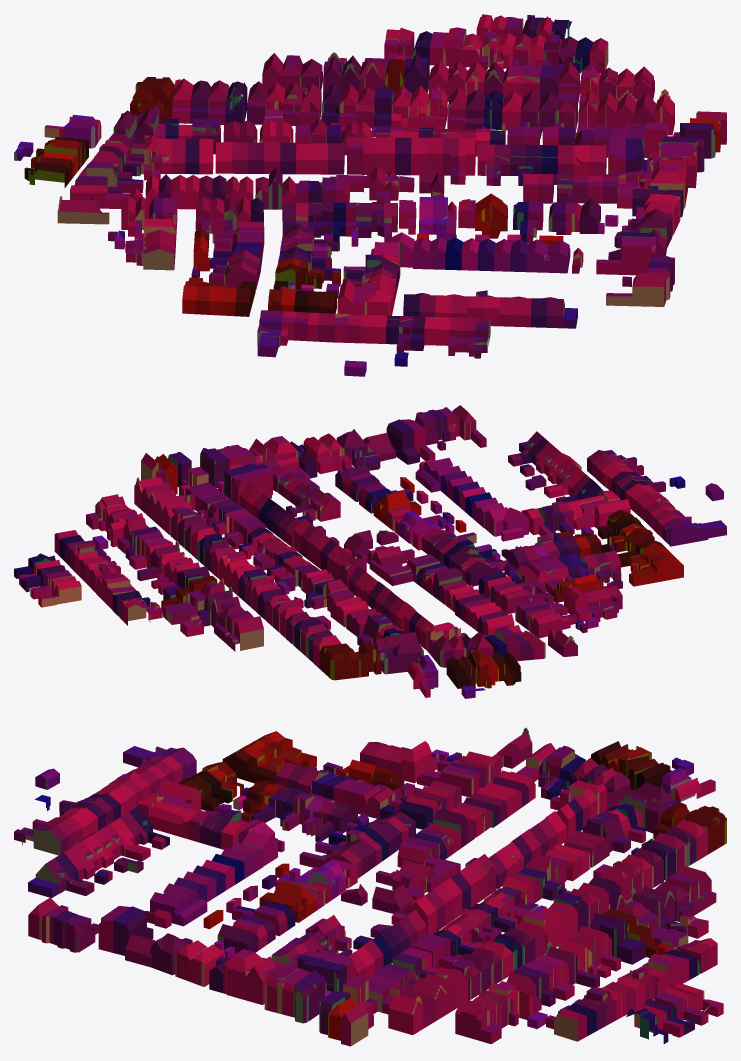
The model's file is buildings_7_7.glb.
3 views of the same model, one above another, from view 1: azimuth 30°, elevation 25°; view 2: azimuth 150°, elevation 25°; view 3: azimuth 270°, elevation 25° (orthographic). The views are drawn at different scales.
Parts seen in each view (by area): view 1: buildings_7_7; view 2: buildings_7_7; view 3: buildings_7_7.
Boxes of the visible parts, x1,y1,x2,y2 form: buildings_7_7: (14, 14, 726, 376); buildings_7_7: (14, 405, 726, 698); buildings_7_7: (14, 727, 726, 1046).
Bounding box in the file's own units: 213 × 12.61 × 216.
